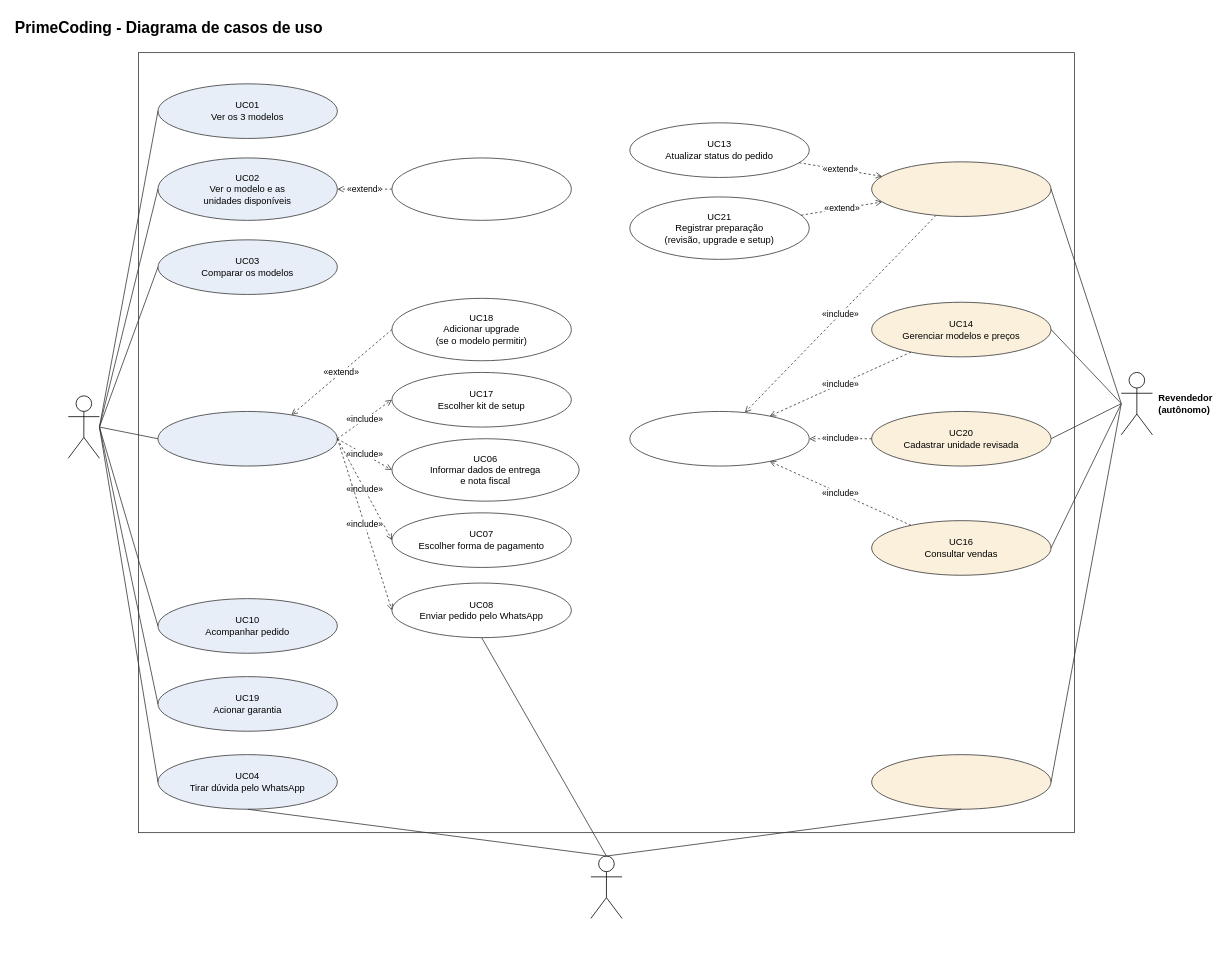
This 1225x970 diagram has some shape labels left out. The shapes that lost their labels are listed below. From the top down, each one's centre as x and y in pixels, then its label:
At pixel 481 188: "UC09 Pedir aviso de reposição (se esgotado)".
At pixel 961 188: "UC12 Gerenciar pedidos".
At pixel 83 426: "Cliente".
At pixel 247 438: "UC05 Fazer pedido".
At pixel 719 438: "UC11 Fazer login".
At pixel 961 781: "UC15 Atender cliente pelo WhatsApp".
At pixel 606 886: "WhatsApp «sistema externo»".
